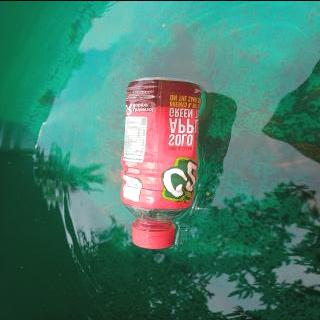bottle: (116, 75, 205, 250)
